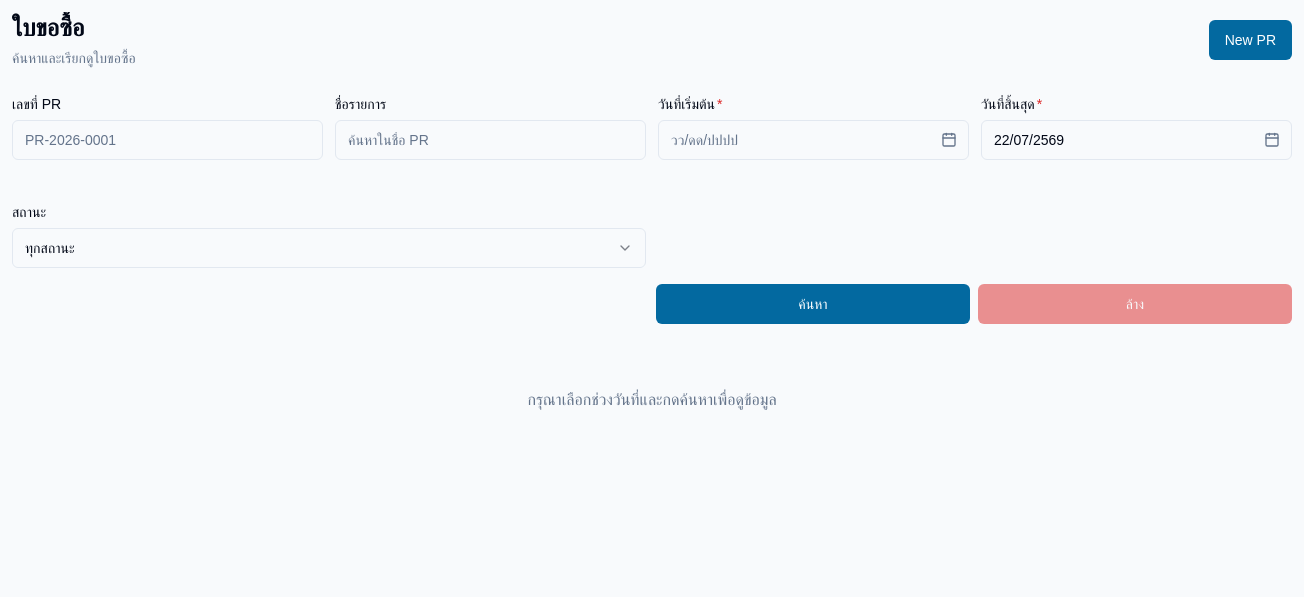
PRListPage › ลำดับ column shows running number continuous across pagination
The image size is (1304, 597).
Type "01012569" into the field labelled "วันที่เริ่มต้น*" at (814, 140), box [658,120,969,160]
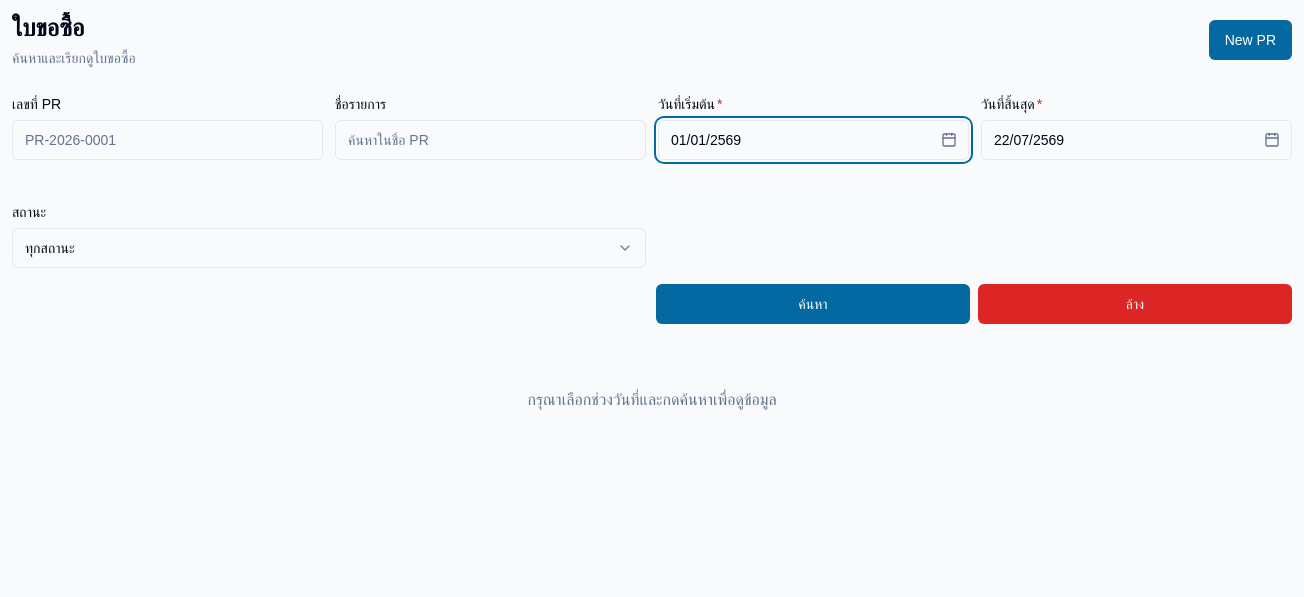
Replace the text in the field labelled "วันที่สิ้นสุด*" with "31122569" at (1136, 140), box [981,120,1292,160]
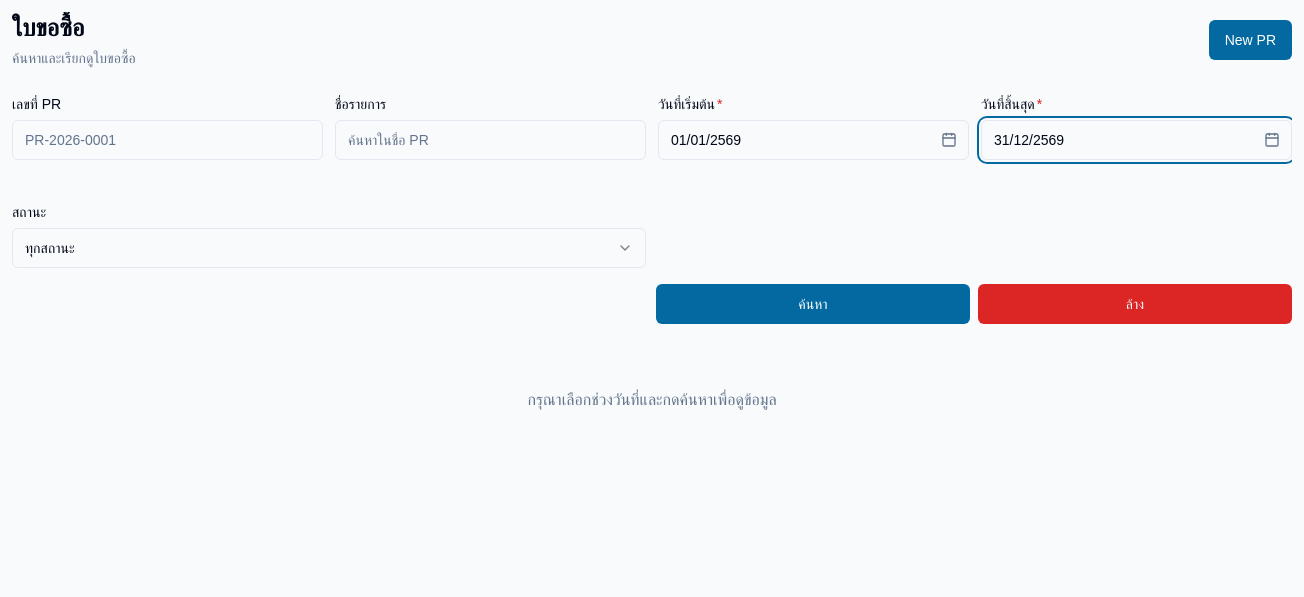
Click the button "ค้นหา" at (813, 304), box [656,284,970,324]
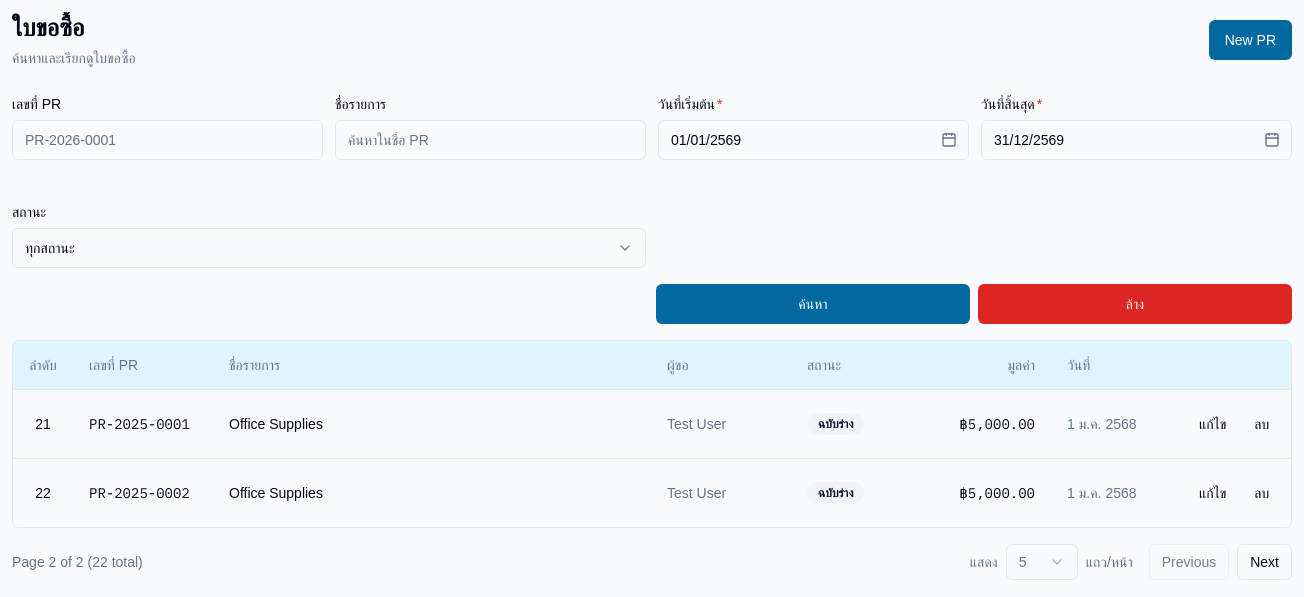
Expected: the text "กรุณาเลือกช่วงวันที่และกดค้นหา" is gone
Expected: the text "21" is shown, [13,389,73,458]
Expected: the text "22" is shown, [13,458,73,526]
